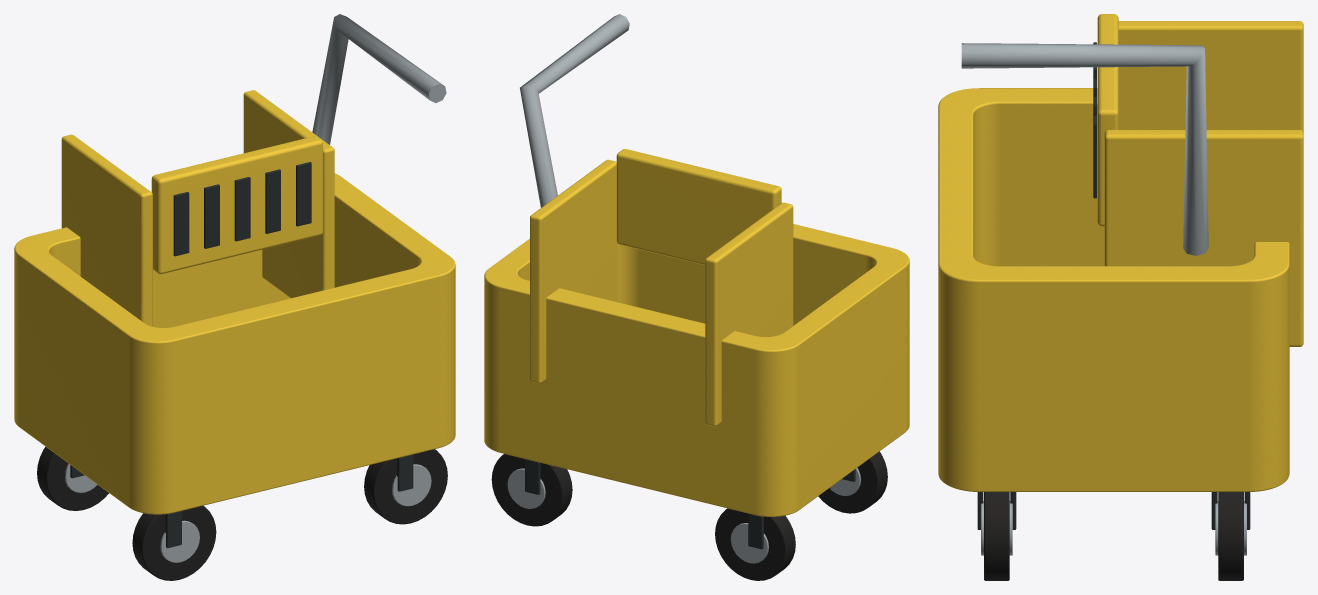
Rendered from wringer-bucket.glb.
The picture shows the model from 3 angles, left to right: view 1: azimuth 30°, elevation 25°; view 2: azimuth 150°, elevation 25°; view 3: azimuth 270°, elevation 25°; orthographic projection. The views are drawn at different scales.
Visible parts, largest first — view 1: Open mop-bucket shell, Wringer front, Wringer basket side, Wringer basket side.001, Wringer squeeze handle, Rubber caster wheel, Rubber caster wheel.002, Rubber caster wheel.001, Wringer drainage slot.002, Wringer drainage slot, Wringer drainage slot.001, Wringer drainage slot.004 (+5 smaller); view 2: Open mop-bucket shell, Wringer front, Wringer basket side.001, Wringer basket side, Wringer squeeze handle, Rubber caster wheel.001, Rubber caster wheel.003, Rubber caster wheel, Caster wheel hub.003, Caster wheel hub.007; view 3: Open mop-bucket shell, Wringer basket side.001, Wringer basket side, Wringer squeeze handle, Wringer front, Rubber caster wheel.003, Rubber caster wheel.002.
Part boxes in pixels (<box>): Open mop-bucket shell: <box>14,173,455,514</box>; Wringer front: <box>151,136,322,274</box>; Wringer basket side: <box>61,134,152,326</box>; Wringer basket side.001: <box>243,90,334,298</box>; Wringer squeeze handle: <box>312,14,446,144</box>; Rubber caster wheel: <box>132,505,216,580</box>; Rubber caster wheel.002: <box>364,449,447,524</box>; Rubber caster wheel.001: <box>37,446,108,510</box>; Wringer drainage slot.002: <box>234,177,250,241</box>; Wringer drainage slot: <box>173,192,189,256</box>; Wringer drainage slot.001: <box>204,184,219,248</box>; Wringer drainage slot.004: <box>296,162,311,226</box>; Open mop-bucket shell: <box>484,224,909,516</box>; Wringer front: <box>616,149,781,265</box>; Wringer basket side.001: <box>530,159,617,383</box>; Wringer basket side: <box>705,202,793,426</box>; Wringer squeeze handle: <box>520,14,629,207</box>; Rubber caster wheel.001: <box>715,508,795,580</box>; Rubber caster wheel.003: <box>491,454,572,526</box>; Rubber caster wheel: <box>818,451,887,513</box>; Caster wheel hub.003: <box>730,523,768,563</box>; Caster wheel hub.007: <box>507,468,545,508</box>; Open mop-bucket shell: <box>938,88,1289,491</box>; Wringer basket side.001: <box>1104,130,1303,346</box>; Wringer basket side: <box>1118,21,1303,132</box>; Wringer squeeze handle: <box>961,43,1208,255</box>; Wringer front: <box>1097,14,1118,226</box>; Rubber caster wheel.003: <box>1218,492,1243,580</box>; Rubber caster wheel.002: <box>984,492,1009,580</box>.
Bounding box in the file's own units: 0.39 × 0.5108 × 0.312.
4 materials, 4 textured.
